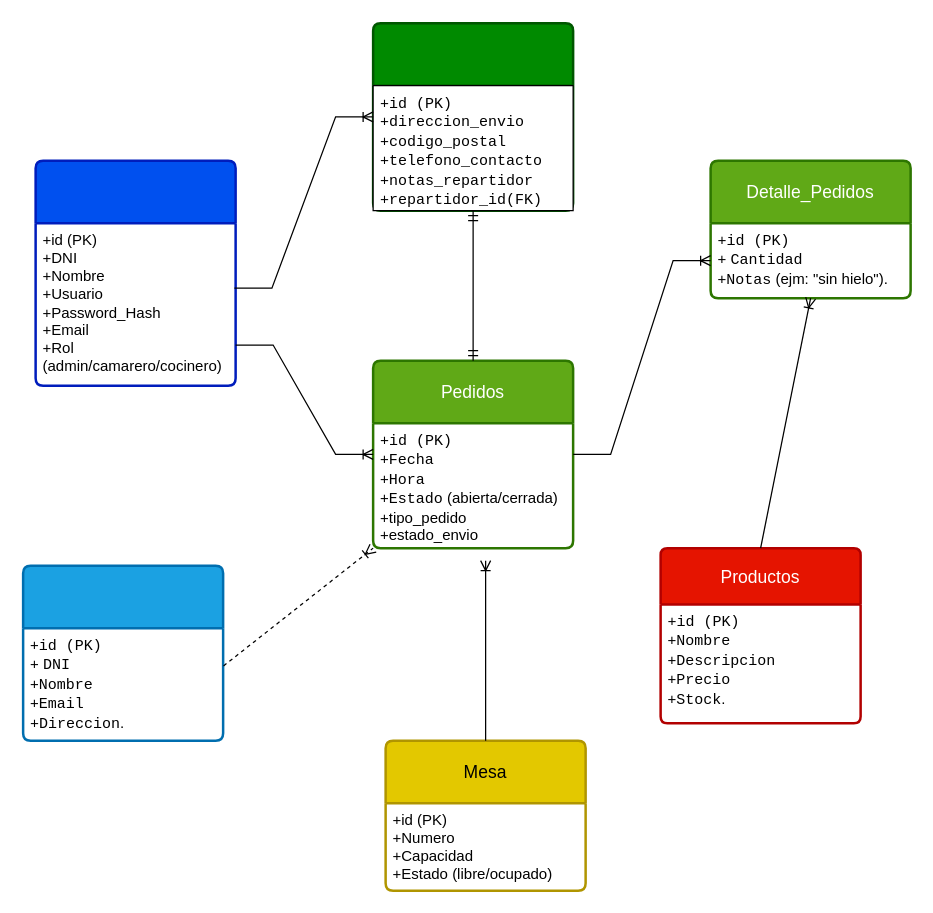
Image size: 933x913. Some labels were removed from this diagram. Here are the shapes that lost their labels. From the top down, the box of each, then its label:
(371, 21, 574, 211): Pedidos_Domicilio
(34, 159, 236, 386): Usuarios
(21, 564, 224, 741): Clientes
